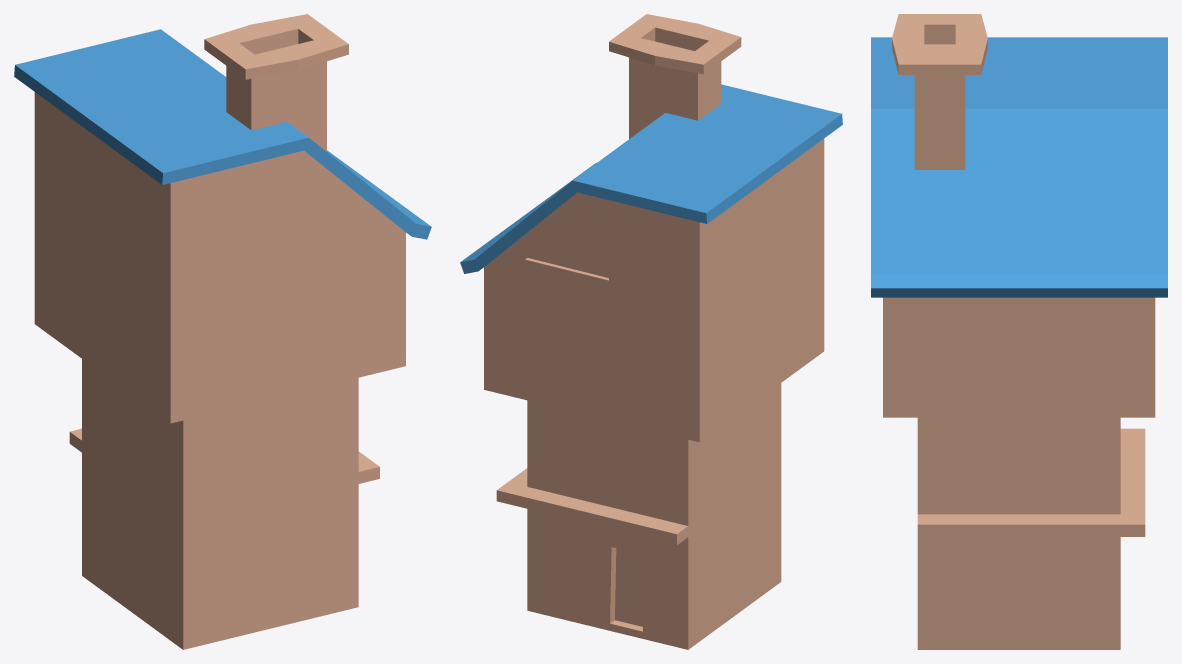
Rendered from Building_1.fbx.
The picture shows the model from 3 angles, left to right: view 1: azimuth 30°, elevation 25°; view 2: azimuth 150°, elevation 25°; view 3: azimuth 270°, elevation 25°; orthographic projection. The views are drawn at different scales.
Visible parts, largest first — view 1: Cube; view 2: Cube; view 3: Cube.
Part boxes in pixels (left/top/right/bottom): Cube: left=14, top=14, right=431, bottom=649; Cube: left=460, top=14, right=842, bottom=649; Cube: left=871, top=14, right=1167, bottom=649.
Size of the model in its own units: 229 by 467 by 218.
